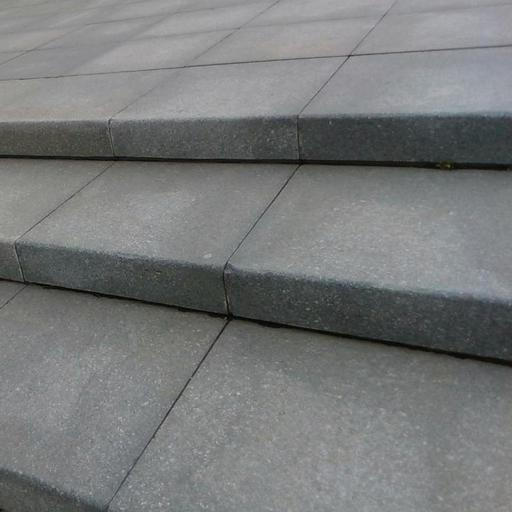stairs: (0, 0, 511, 511), (0, 285, 511, 511), (0, 159, 511, 359)
